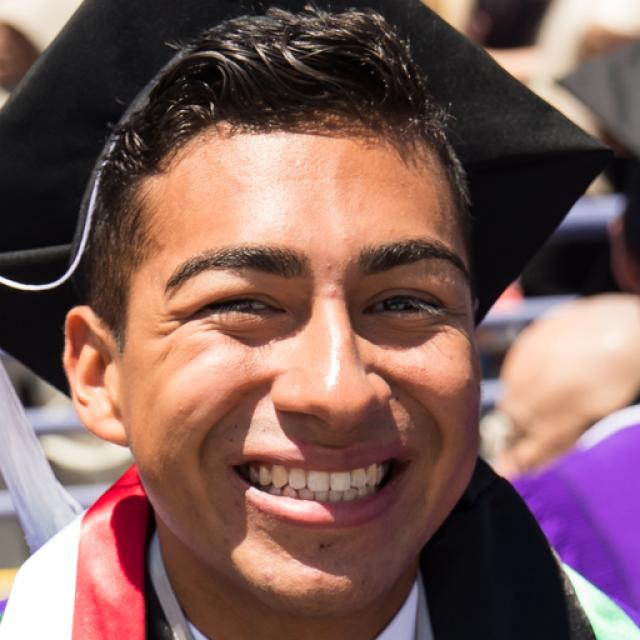Acne: (331, 230, 355, 246), (321, 251, 336, 276), (414, 361, 431, 380), (326, 284, 346, 299), (342, 253, 357, 268), (463, 375, 476, 386)
